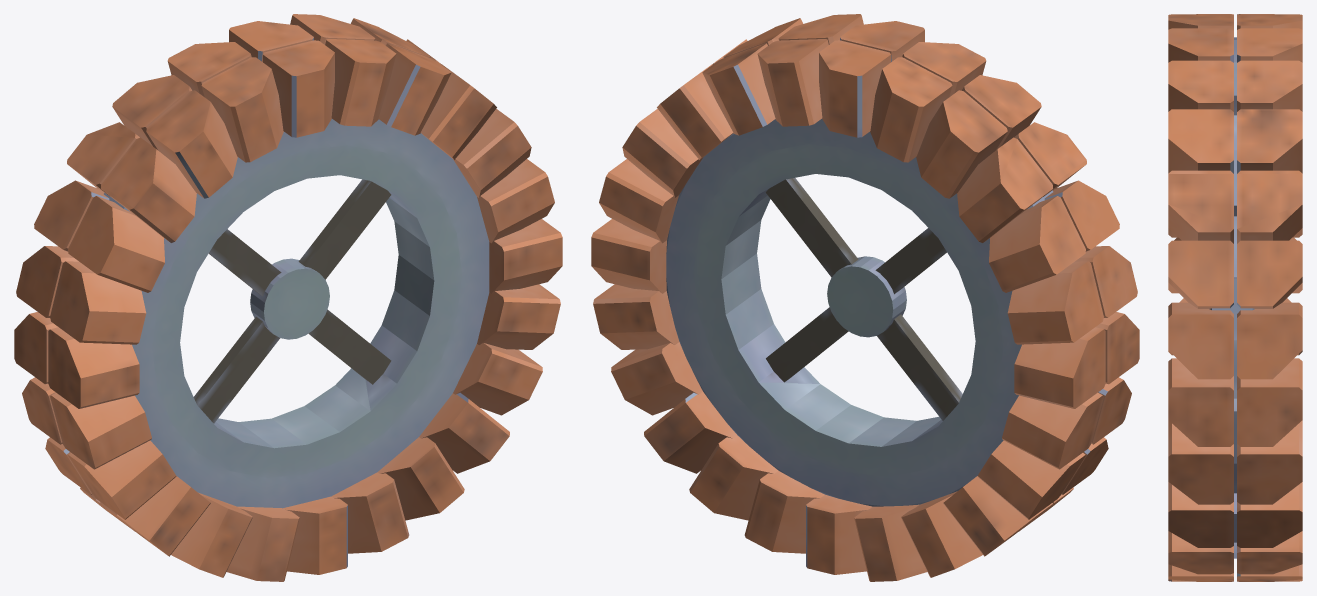
Rendered from module-scroll-01.glb.
3 renders of one model, left to right at view 1: azimuth 30°, elevation 25°; view 2: azimuth 150°, elevation 25°; view 3: azimuth 270°, elevation 25°, orthographic.
Parts seen in each view (by area): view 1: Mesh_0.001; view 2: Mesh_0.001; view 3: Mesh_0.001.
Boxes of the visible parts, bbox=[...] form: Mesh_0.001: bbox=[14, 14, 562, 581]; Mesh_0.001: bbox=[591, 14, 1139, 581]; Mesh_0.001: bbox=[1168, 14, 1302, 581].
Size of the model in its own units: 1.64 by 1.64 by 0.3912.
1 material, 1 textured.
